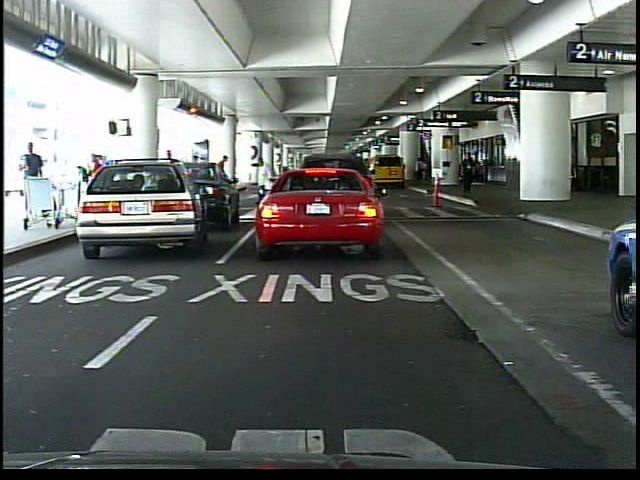person: (19, 138, 48, 225), (162, 145, 180, 223), (256, 154, 276, 205), (214, 154, 231, 208), (462, 155, 478, 197), (416, 155, 428, 188)
